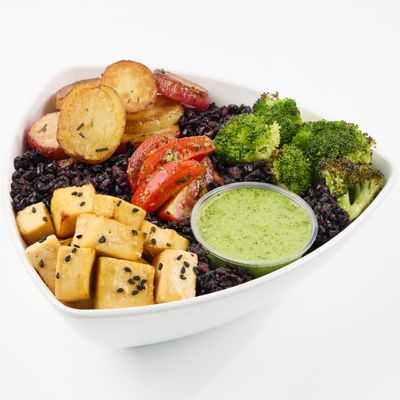curry: (214, 92, 385, 231)
pasta: (56, 82, 127, 165)
sushi: (2, 49, 399, 360), (191, 180, 318, 276)
